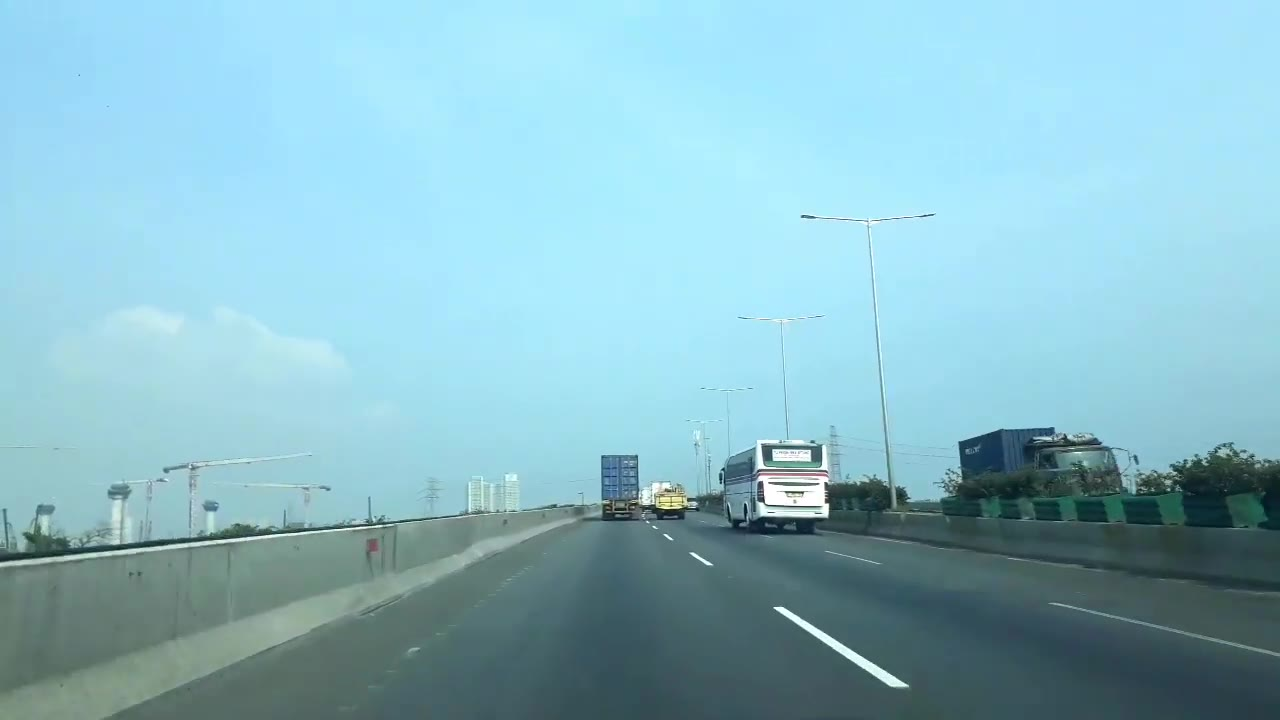plate_positive: (787, 492, 803, 497), (615, 502, 625, 506)
